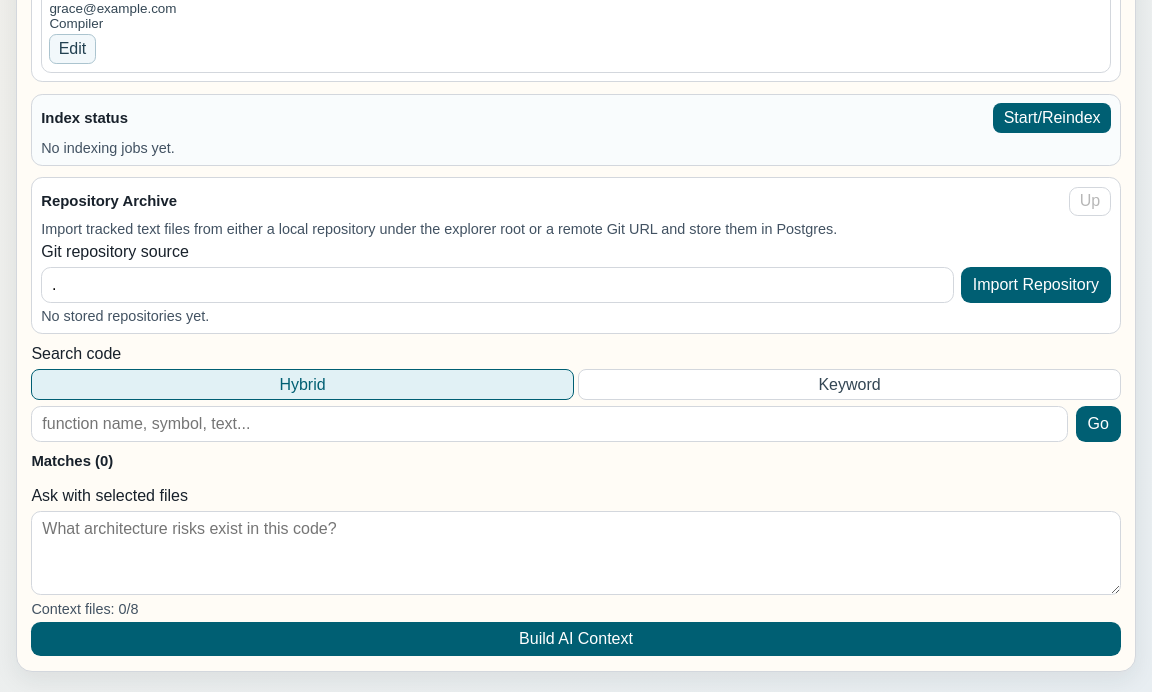
Test: Explorer › searches and renders match results
(page scrolled)
Type "Alpha" into the field labelled "Search code" at x=550, y=424, box [31, 406, 1068, 442]
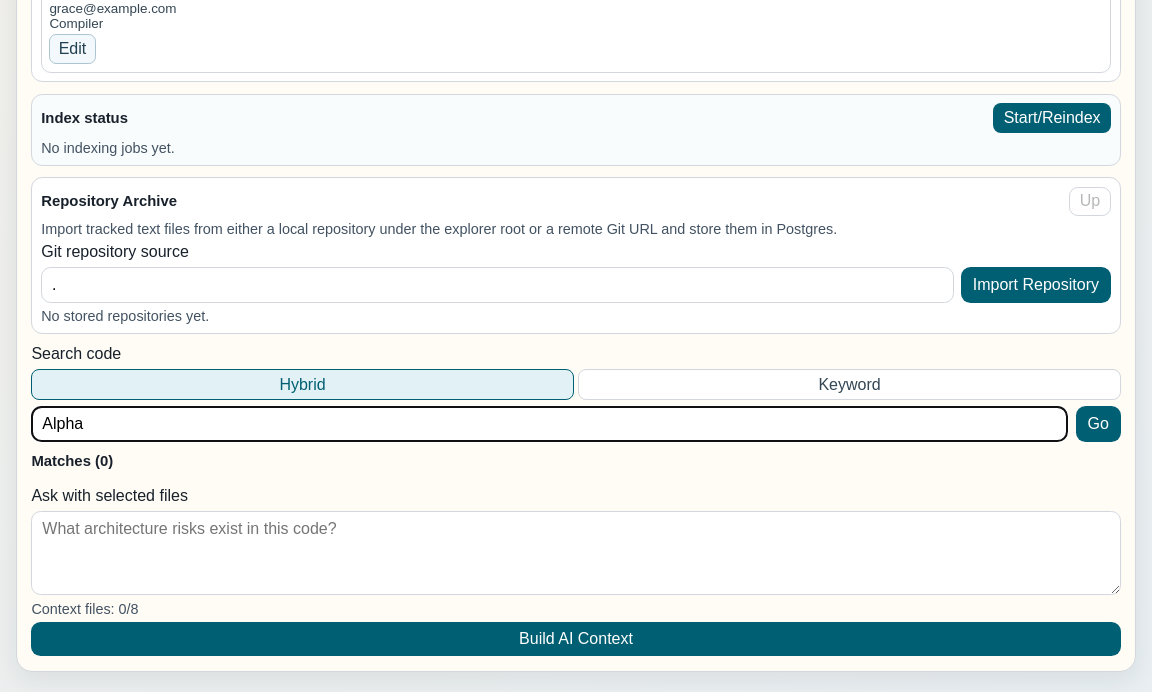
Click the button "Go" at x=1098, y=424, box [1076, 406, 1121, 442]
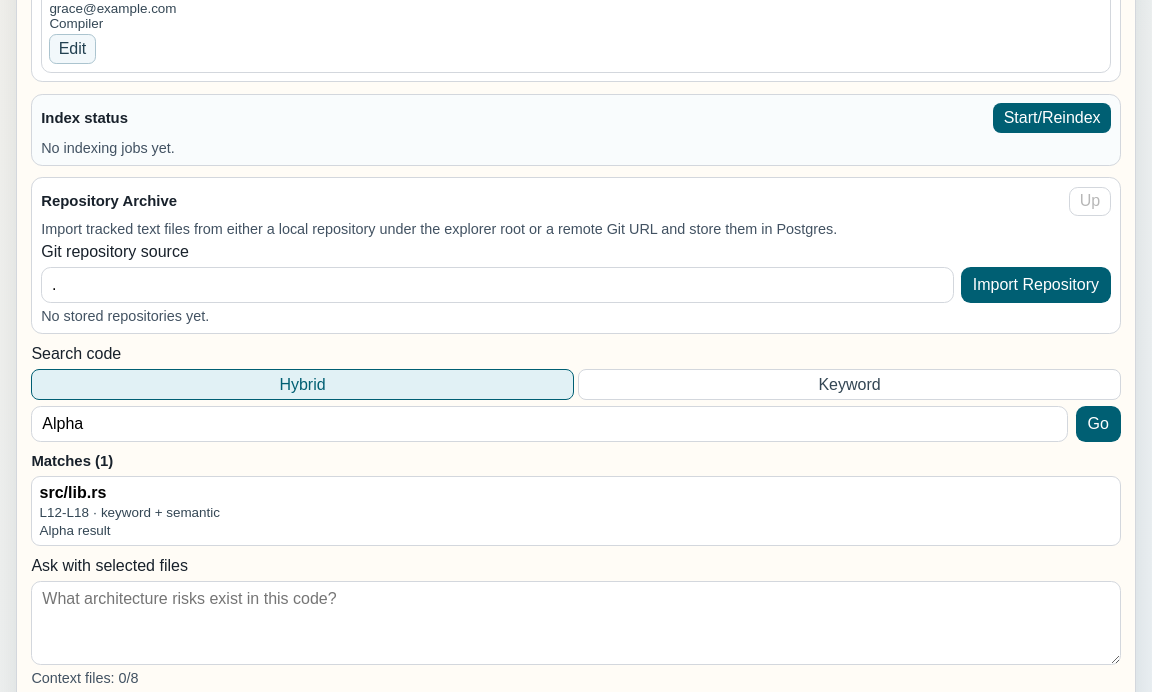
Expected: the text "src/lib.rs" is shown, [40, 484, 106, 502]
Expected: the text "L12-L18 · keyword + semantic" is shown, [40, 505, 220, 520]
